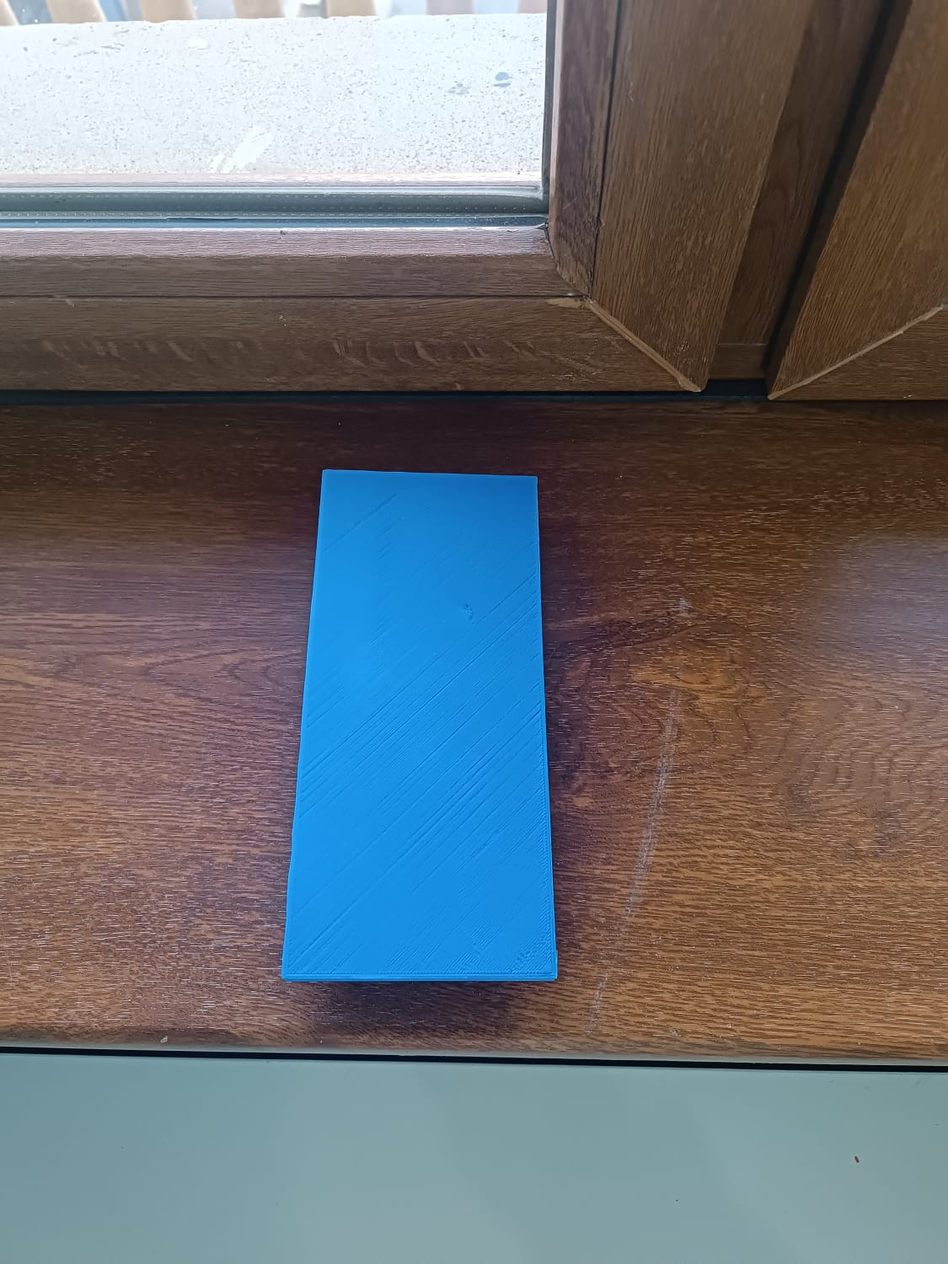Rectangular: (266, 458, 574, 991)
